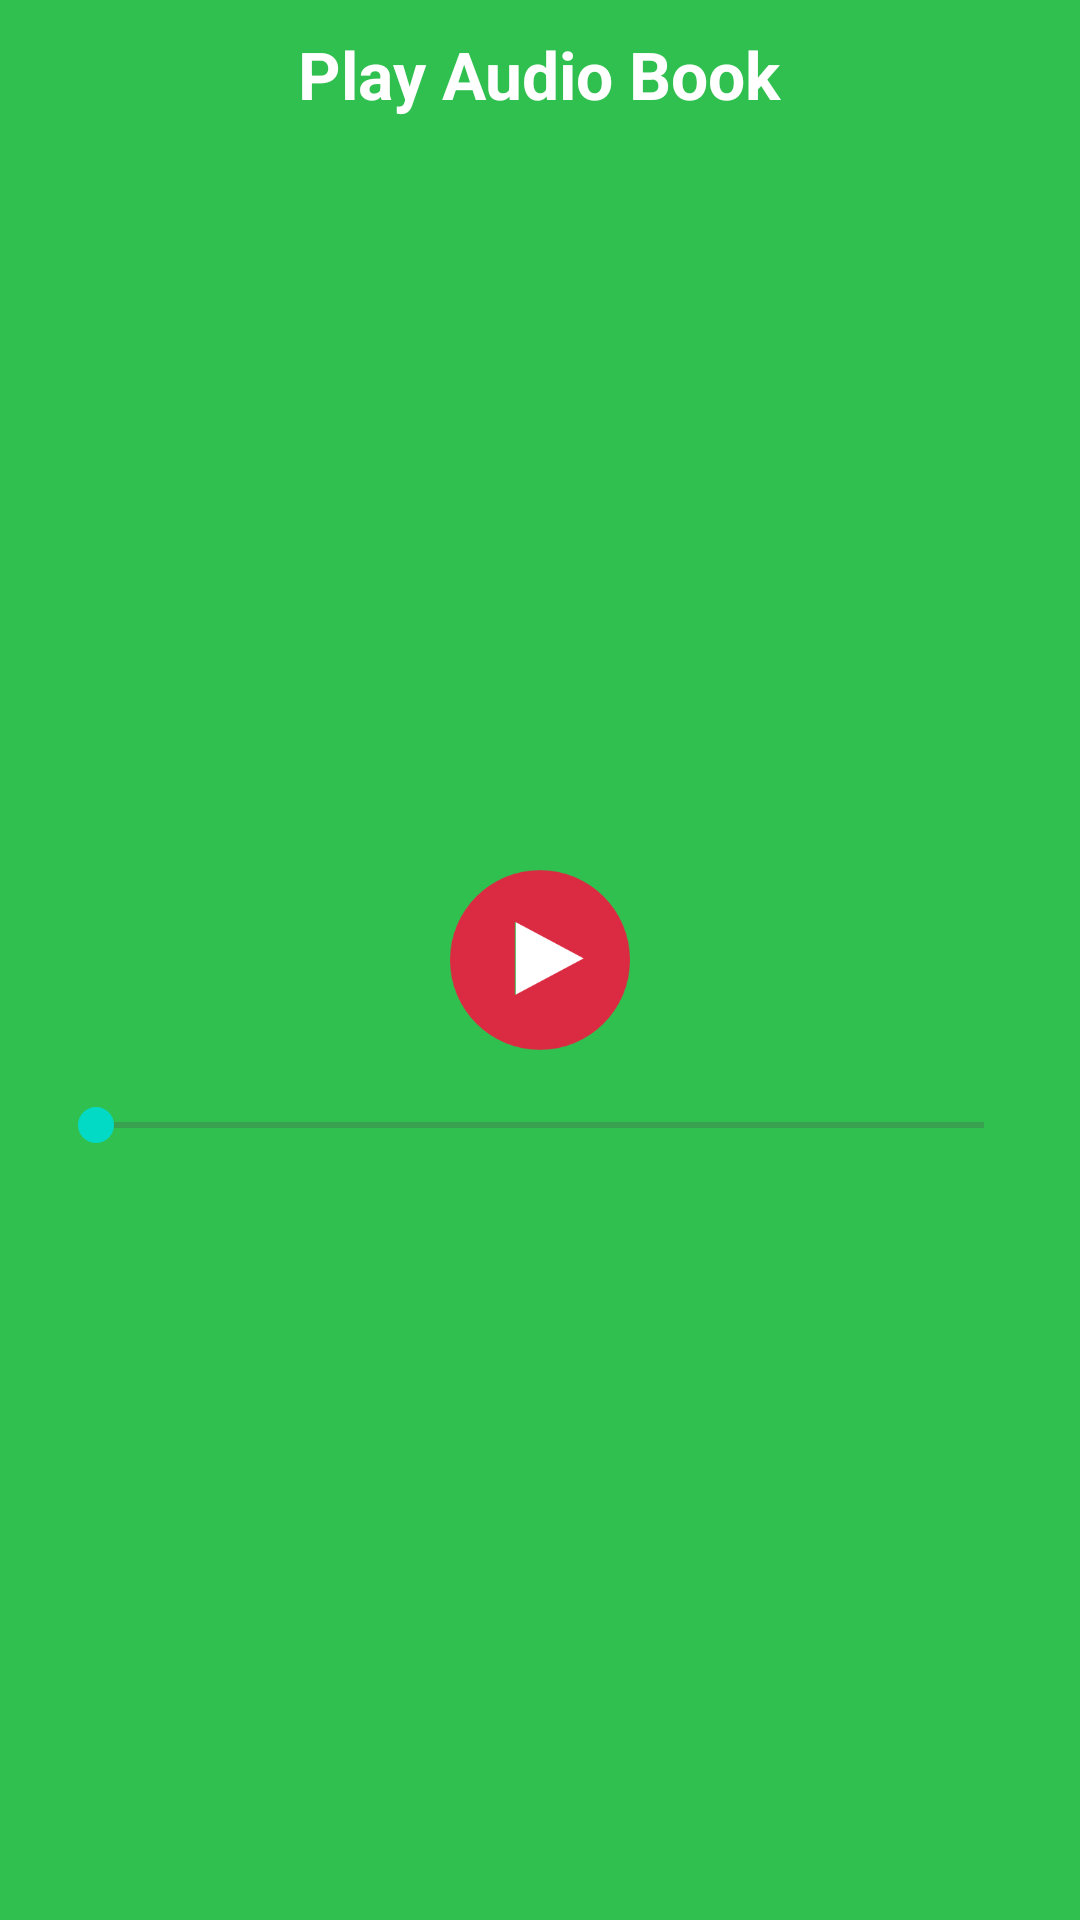

Icon bounding boxes for this 1080×1920 phone screenshot, format (x1, y1, x2, y2):
play: (450, 870, 630, 1050)
